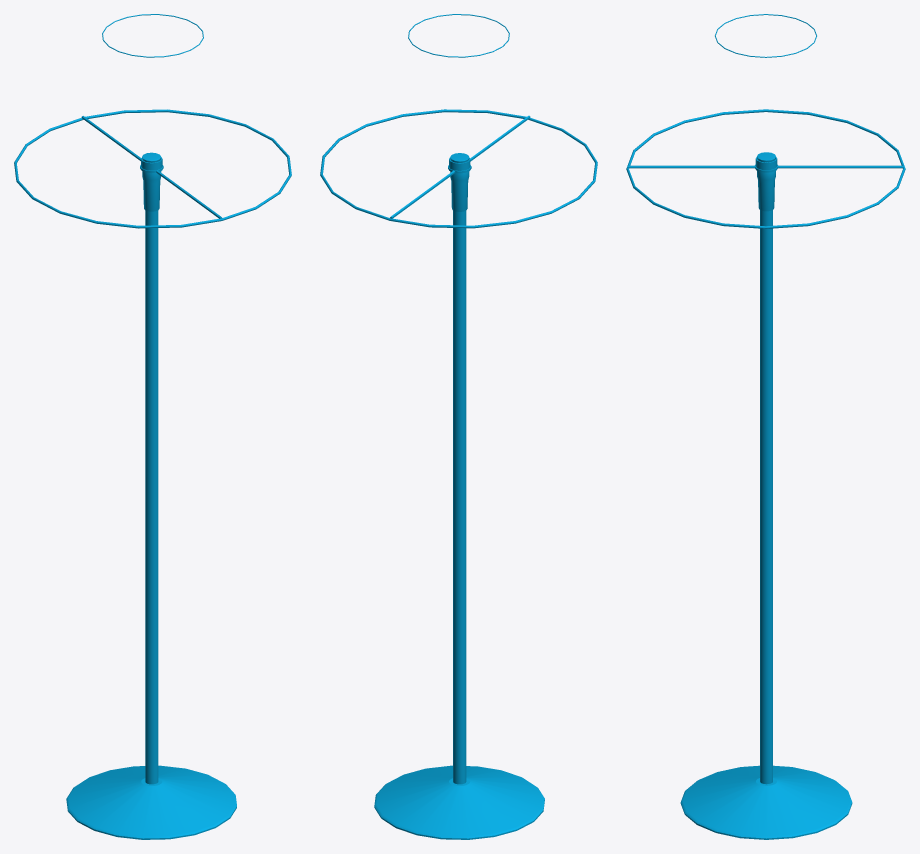
The model's file is Lamp_05_Lod0.fbx.
3 renders of one model, left to right at view 1: azimuth 30°, elevation 25°; view 2: azimuth 150°, elevation 25°; view 3: azimuth 270°, elevation 25°, orthographic.
Visible parts, largest first — view 1: Lamp_05_Lod0; view 2: Lamp_05_Lod0; view 3: Lamp_05_Lod0.
Boxes of the visible parts, left/top/right/bottom form: Lamp_05_Lod0: left=14, top=14, right=291, bottom=839; Lamp_05_Lod0: left=320, top=14, right=597, bottom=839; Lamp_05_Lod0: left=626, top=14, right=905, bottom=839.
Bounding box in the file's own units: 53.22 × 162 × 53.22.
